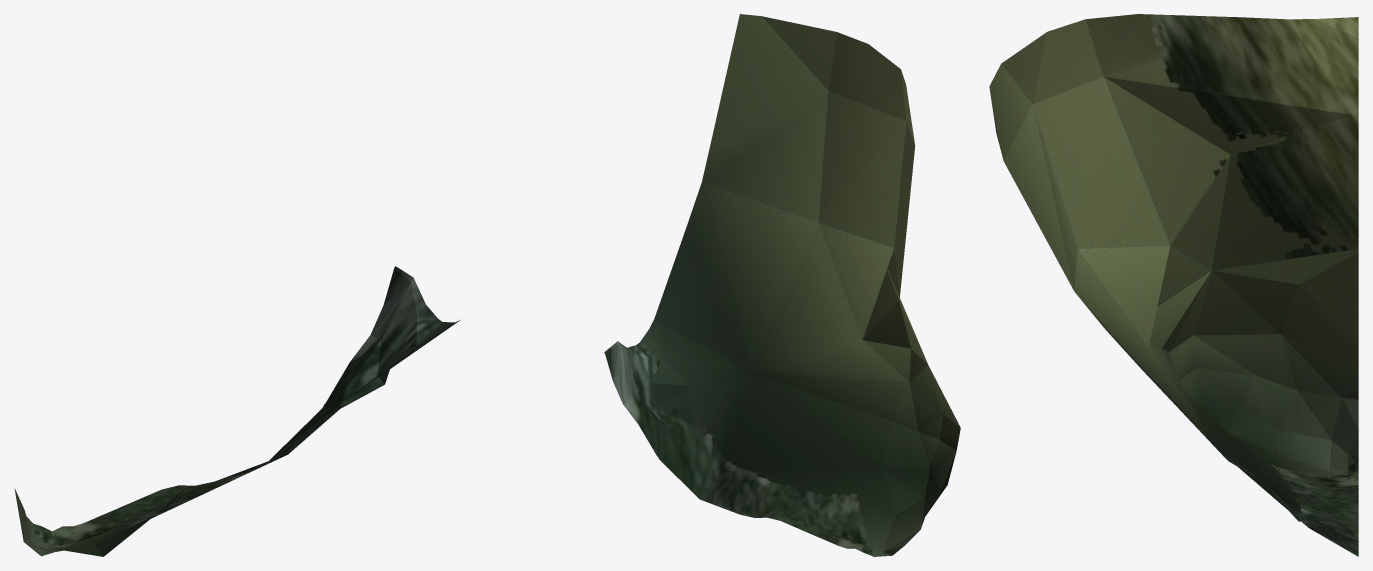
3 views of the same model, side by side, from view 1: azimuth 30°, elevation 25°; view 2: azimuth 150°, elevation 25°; view 3: azimuth 270°, elevation 25° (orthographic). The views are drawn at different scales.
Size of the model in its own units: 4.23 by 5.07 by 3.41.
Materials: 2 (2 with a texture image).
